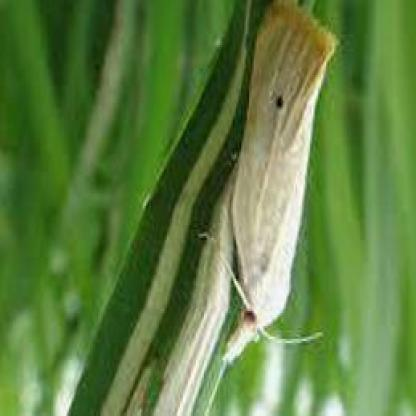stem-borer: (218, 0, 337, 362)
